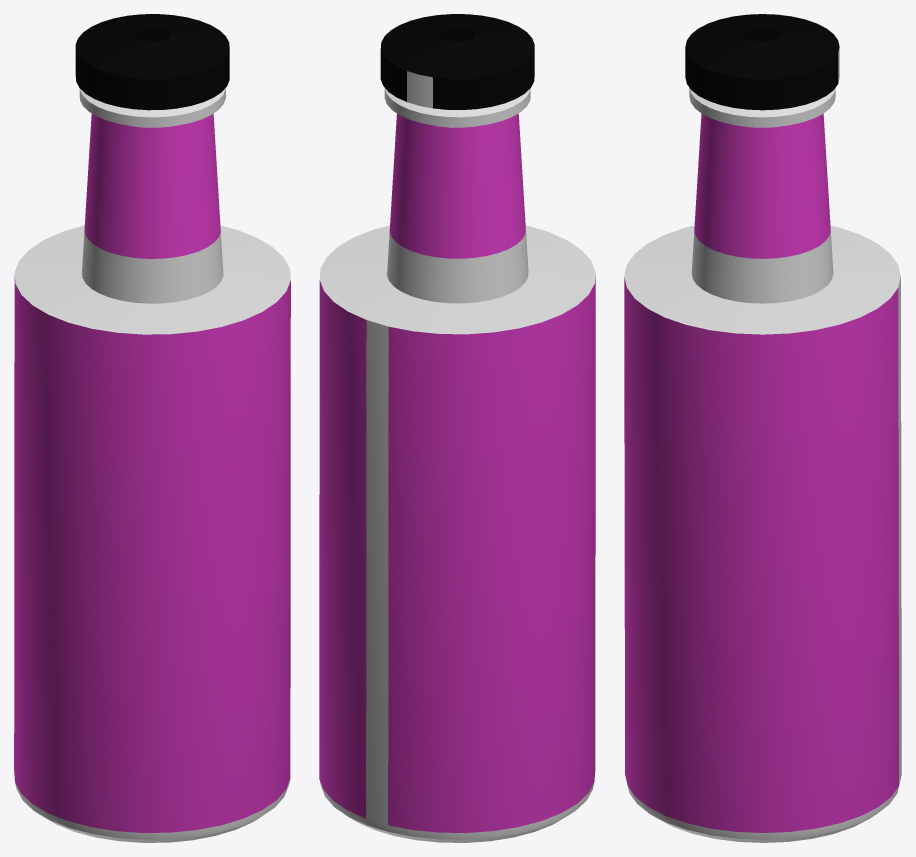
Rendered from Ango.fbx.
The picture shows the model from 3 angles, left to right: view 1: azimuth 30°, elevation 25°; view 2: azimuth 150°, elevation 25°; view 3: azimuth 270°, elevation 25°; orthographic projection.
Visible parts, largest first — view 1: Ango; view 2: Ango; view 3: Ango.
Part boxes in pixels (x1,y1,x2,y2): Ango: [14, 14, 290, 842]; Ango: [319, 14, 595, 842]; Ango: [624, 14, 901, 842].
Size of the model in its own units: 123 by 371 by 124.
